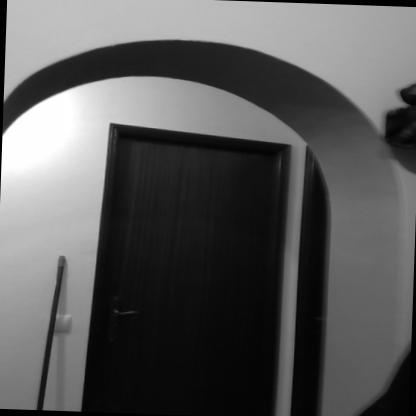closed: (85, 109, 315, 416)
